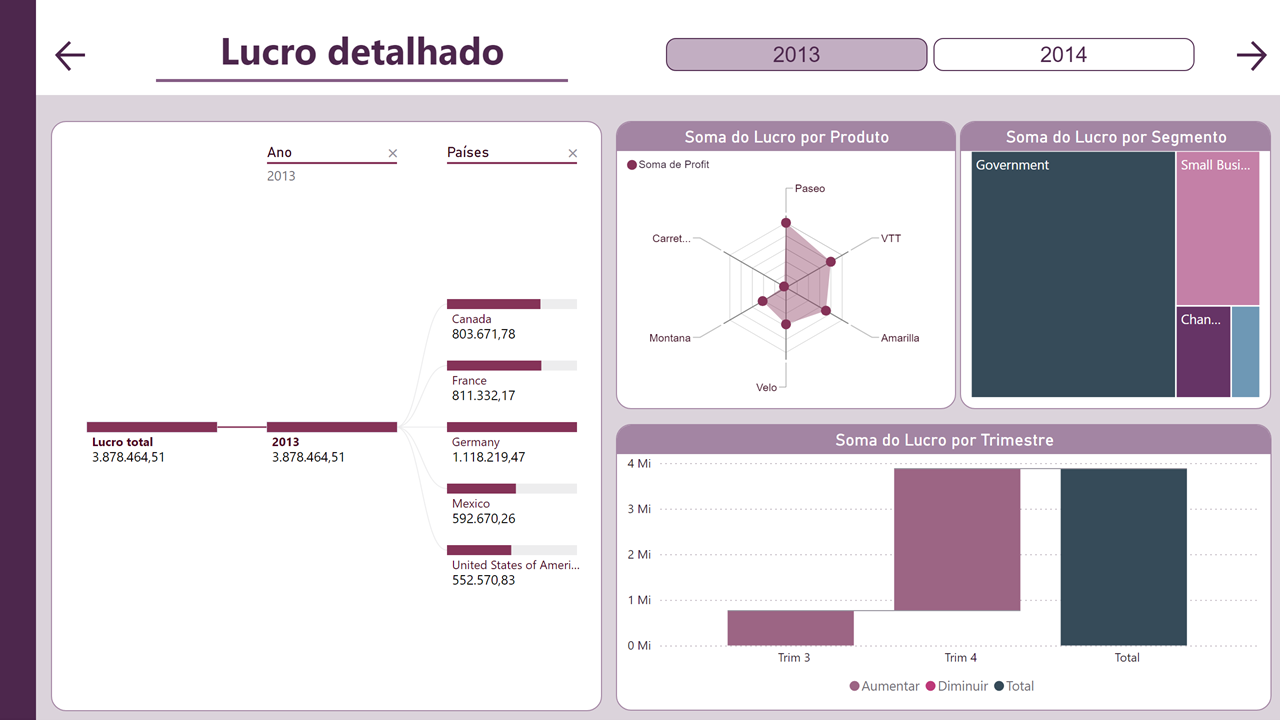

Layout of this report page (visuals, bound fields, positions):
{"tool":"powerbi","page":{"name":"Lucro","canvas":[1280,720],"ordinal":1},"visuals":[{"type":"shape","box":[0,0,1280,95],"z":0},{"type":"shape","box":[36,95,1244,625],"z":1000},{"type":"decompositionTreeVisual","fields":{"Analyze":["Sum(financials.Profit)"],"ExplainBy":["financials.Date.Variation.Hierarquia de datas.Ano","financials.Country"]},"box":[51,121,551,590],"z":2000},{"type":"RadarChart1446119667547","title":"Soma do Lucro por Produto","fields":{"Category":["financials.Product"],"Y":["Sum(financials.Profit)"]},"box":[615.6,121.1,340,287.8],"z":3000},{"type":"treemap","title":"Soma do Lucro por Segmento","fields":{"Group":["financials.Segment"],"Values":["Sum(financials.Profit)"]},"box":[960,121.1,311.1,287.8],"z":4000},{"type":"waterfallChart","title":"Soma do Lucro por Trimestre","fields":{"Category":["financials.Date.Variation.Hierarquia de datas.Trimestre"],"Y":["Sum(financials.Profit)"]},"box":[615.6,424.4,655.6,286.7],"z":5000},{"type":"textbox","title":"Lucro detalhado","box":[151.1,24.4,422.2,62.2],"z":6000},{"type":"shape","box":[0,0,36,720],"z":7000},{"type":"ChicletSlicer1448559807354","fields":{"Category":["financials.Date.Variation.Hierarquia de datas.Ano"]},"box":[657.8,30,544.4,51.1],"z":8000},{"type":"actionButton","box":[1212.2,35.6,58.9,40],"z":9000},{"type":"actionButton","box":[51.1,35.6,100,40],"z":10000}]}

Visuals, with their boxes in screenshot pixels (x1, y1, x2, y2), scaled from the page's 1280x720 canvas onto the 1280x720 screenshot:
shape: [0, 0, 1279, 95]
shape: [36, 95, 1279, 719]
decompositionTreeVisual - Sum(financials.Profit) x financials.Date.Variation.Hierarquia de datas.Ano: [51, 121, 602, 711]
"Soma do Lucro por Produto" RadarChart1446119667547: [616, 121, 956, 409]
"Soma do Lucro por Segmento" treemap: [960, 121, 1271, 409]
"Soma do Lucro por Trimestre" waterfallChart: [616, 424, 1271, 711]
"Lucro detalhado" textbox: [151, 24, 573, 87]
shape: [0, 0, 36, 719]
ChicletSlicer1448559807354 - financials.Date.Variation.Hierarquia de datas.Ano: [658, 30, 1202, 81]
actionButton: [1212, 36, 1271, 76]
actionButton: [51, 36, 151, 76]
